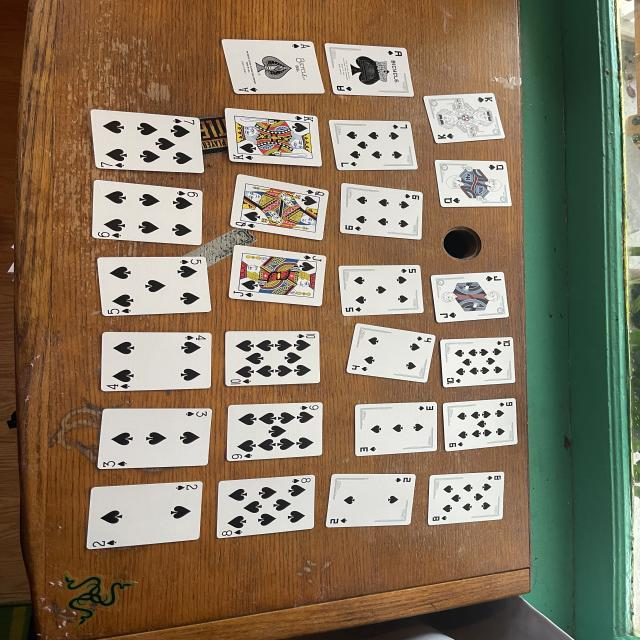10 of spades: (225, 331, 320, 386), (440, 338, 515, 388)
2 of spades: (87, 481, 203, 550), (325, 474, 415, 528)
3 of spades: (97, 409, 212, 469), (355, 402, 437, 456)
4 of spades: (100, 332, 212, 391), (347, 324, 435, 382)
5 of spades: (97, 258, 212, 316), (338, 265, 423, 316)
6 of spades: (92, 180, 203, 245), (340, 184, 423, 240)
7 of spades: (90, 110, 203, 172), (328, 120, 417, 170)
8 of spades: (217, 475, 315, 539), (428, 471, 503, 525)
9 of spades: (227, 402, 323, 461), (443, 399, 518, 451)
Ace of spades: (222, 39, 325, 94), (325, 44, 413, 98)
Jack of spades: (228, 245, 327, 306), (430, 272, 508, 322)
King of spades: (225, 109, 322, 166), (423, 92, 505, 144)
Queen of spades: (230, 175, 328, 240), (435, 160, 512, 208)
